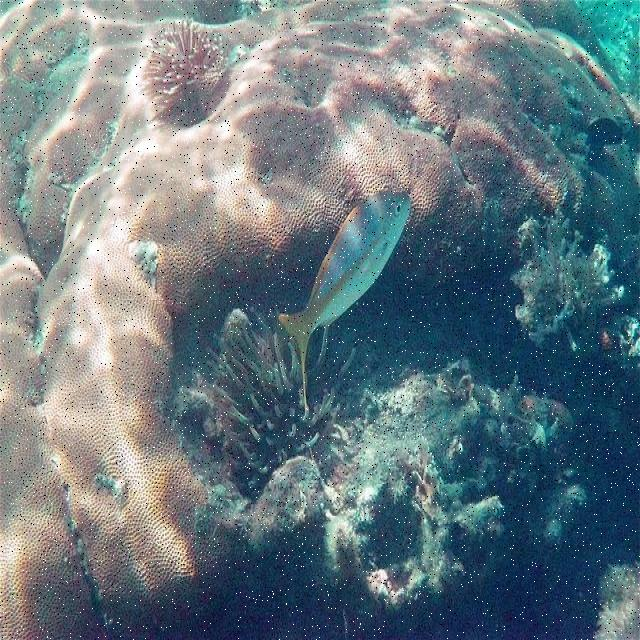fish: (275, 188, 414, 409)
